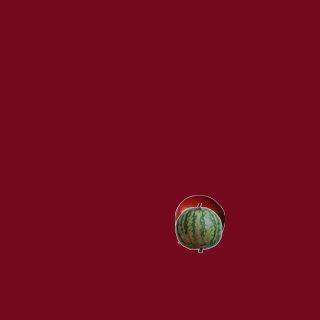Apple Braeburn: (174, 194, 224, 244)
Watermelon: (173, 202, 223, 252)
